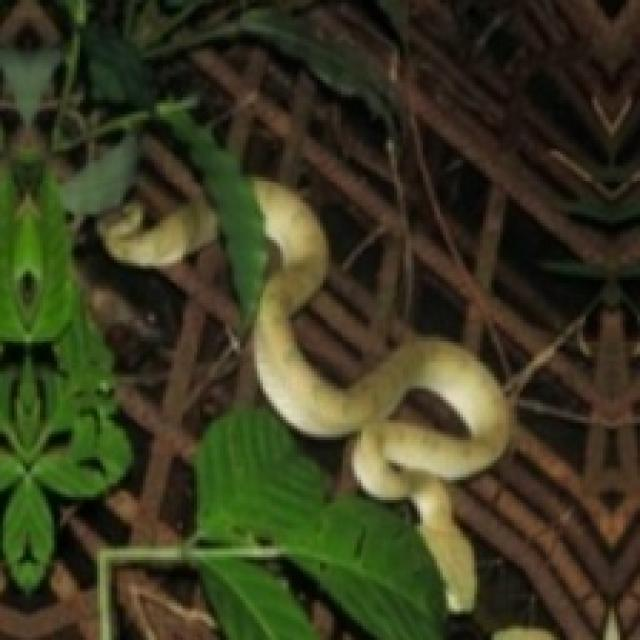north ph temple pitviper: (251, 177, 511, 609), (103, 203, 214, 266)
